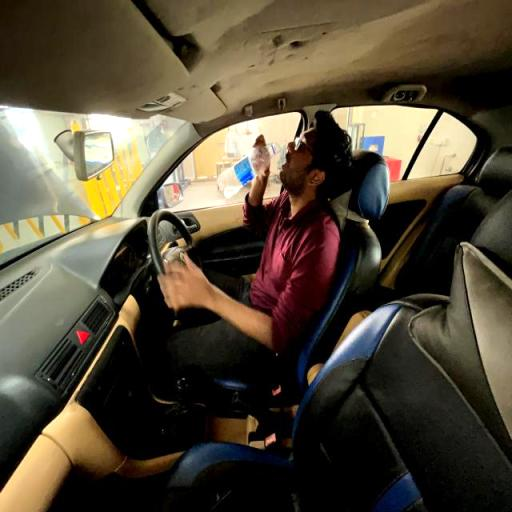Drinking: (174, 115, 358, 366)
